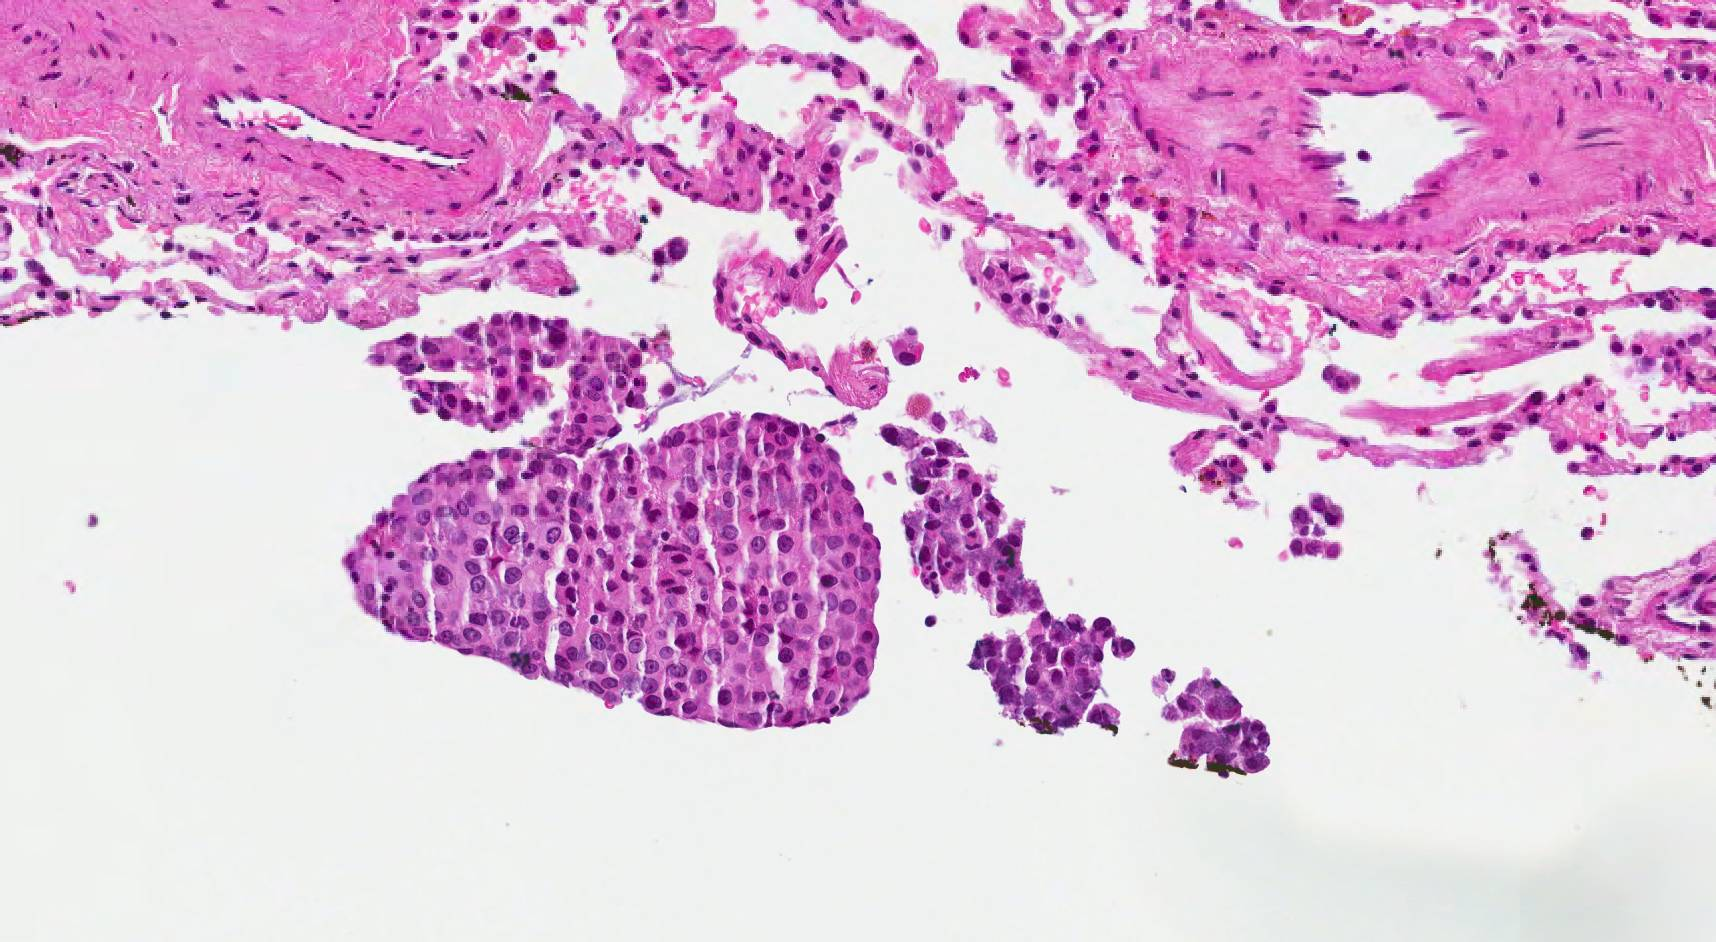stas: (343, 312, 880, 734), (878, 427, 1134, 744), (1162, 660, 1272, 778), (1285, 490, 1355, 567), (650, 231, 694, 269), (1317, 358, 1363, 395)
